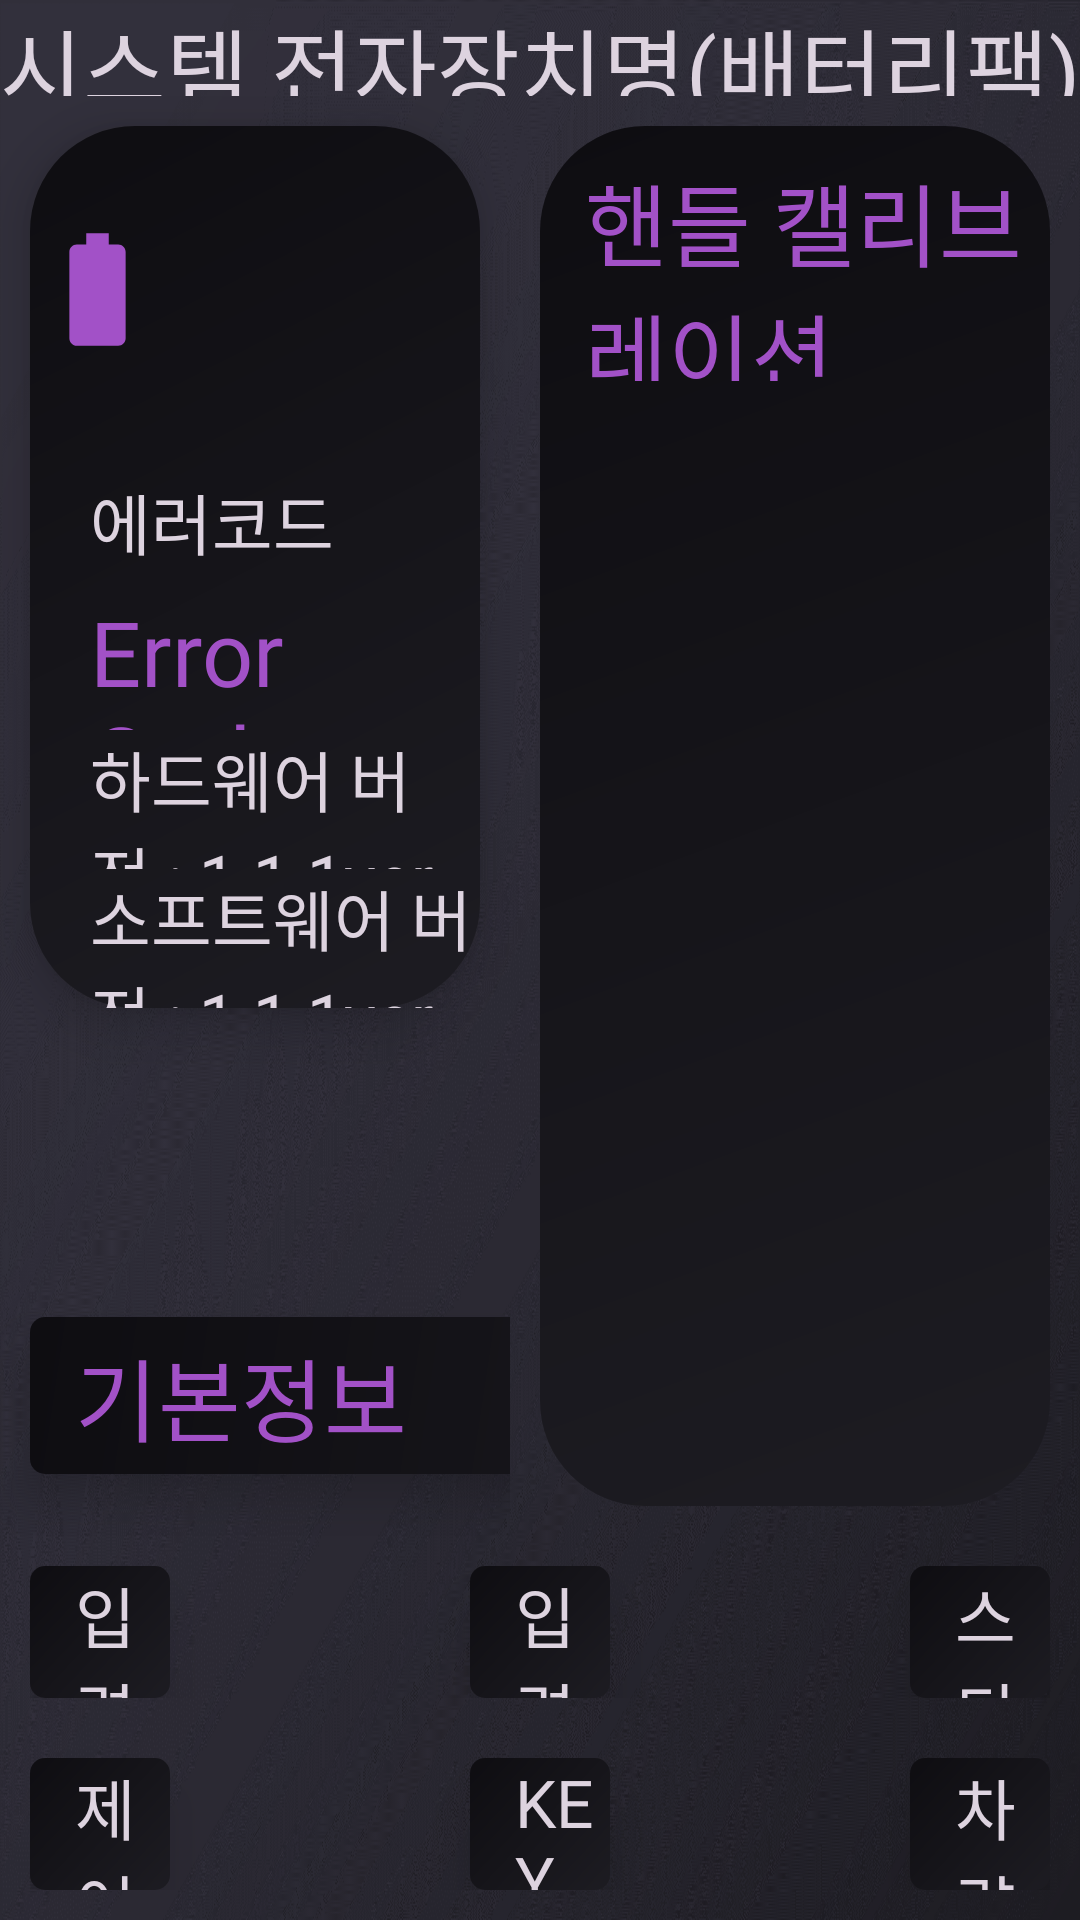

Where to tap for icons on this 1080 × 1920 app screen, as (x=x, y=y):
battery: (x=97, y=289)
